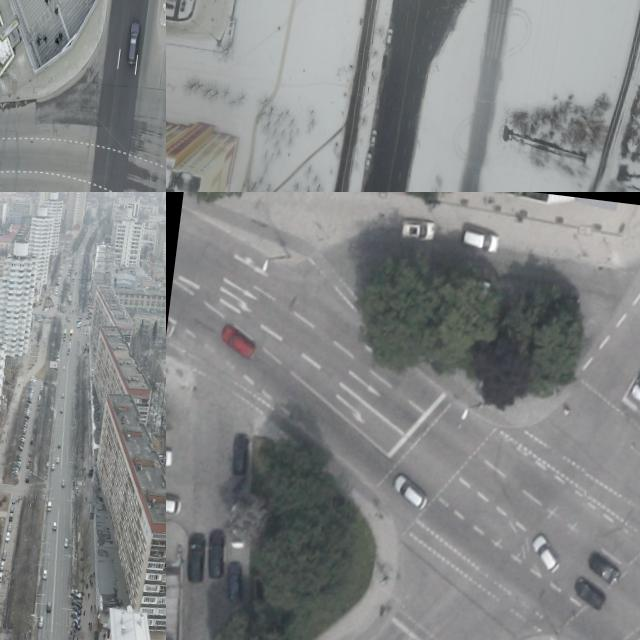UAI: (389, 471, 433, 513), (528, 531, 565, 577), (218, 322, 259, 361), (183, 531, 210, 584), (572, 576, 609, 611), (588, 551, 624, 586), (205, 527, 229, 578), (230, 432, 253, 476), (462, 229, 501, 254), (224, 559, 247, 601), (401, 217, 437, 242), (125, 20, 142, 66), (628, 353, 640, 405), (364, 152, 373, 171), (70, 609, 82, 622), (369, 128, 377, 147), (385, 27, 393, 44), (71, 598, 83, 609), (70, 588, 82, 599), (72, 618, 82, 631), (72, 604, 83, 615), (45, 600, 52, 613), (37, 615, 44, 627), (1, 548, 7, 560), (6, 522, 12, 533), (0, 559, 5, 571), (5, 532, 11, 542), (8, 511, 14, 521), (42, 569, 48, 579), (52, 522, 58, 531), (64, 537, 69, 547), (25, 473, 30, 483), (12, 470, 19, 477), (1, 636, 13, 640), (12, 467, 20, 473), (11, 495, 16, 504), (10, 504, 15, 512), (25, 462, 30, 470), (61, 479, 65, 488), (51, 462, 55, 470), (56, 456, 60, 464), (27, 456, 31, 463), (28, 450, 32, 457), (29, 437, 33, 444), (61, 392, 65, 399), (57, 442, 61, 448), (59, 407, 63, 413), (0, 571, 2, 581)
harvester: (46, 501, 52, 511)
